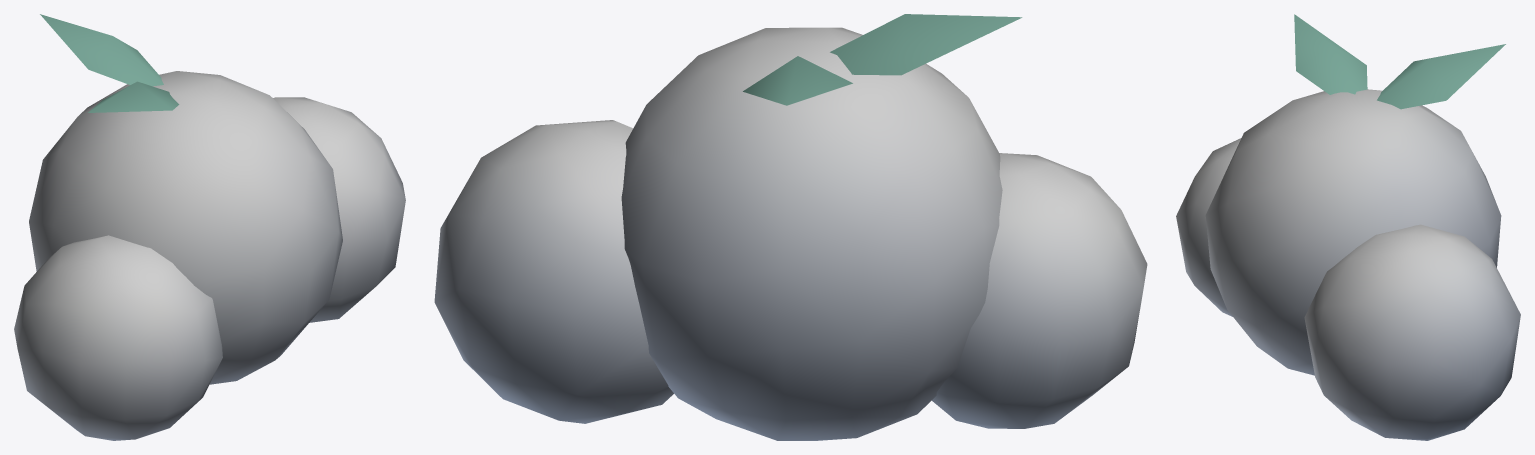
The model's file is Cloudberry.glb.
3 views of the same model, side by side, from view 1: azimuth 30°, elevation 25°; view 2: azimuth 150°, elevation 25°; view 3: azimuth 270°, elevation 25° (orthographic). The views are drawn at different scales.
Parts seen in each view (by area): view 1: Cloudberry; view 2: Cloudberry; view 3: Cloudberry.
Part boxes in pixels (left/top/right/bottom): Cloudberry: left=14, top=14, right=405, bottom=440; Cloudberry: left=434, top=14, right=1147, bottom=440; Cloudberry: left=1176, top=14, right=1520, bottom=440.
Size of the model in its own units: 0.9501 by 0.66 by 0.6984.
